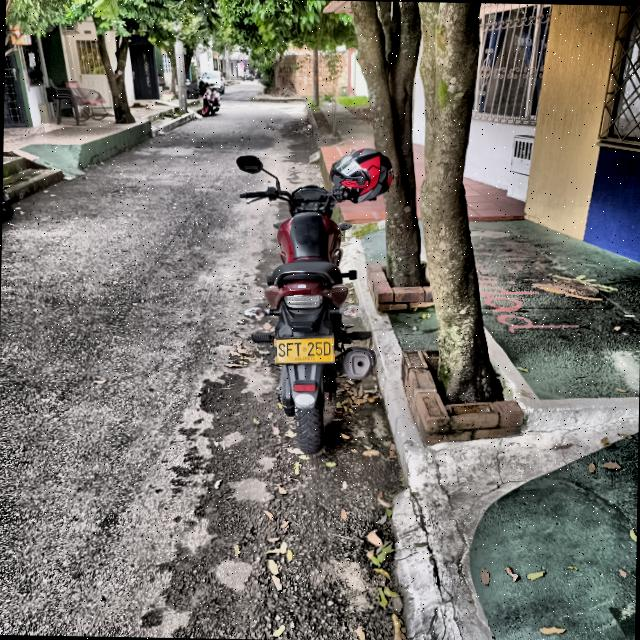2: (305, 341, 315, 356)
5: (314, 341, 322, 356)
D: (322, 341, 331, 356)
F: (285, 341, 293, 357)
S: (277, 342, 285, 357)
T: (293, 341, 302, 357)
